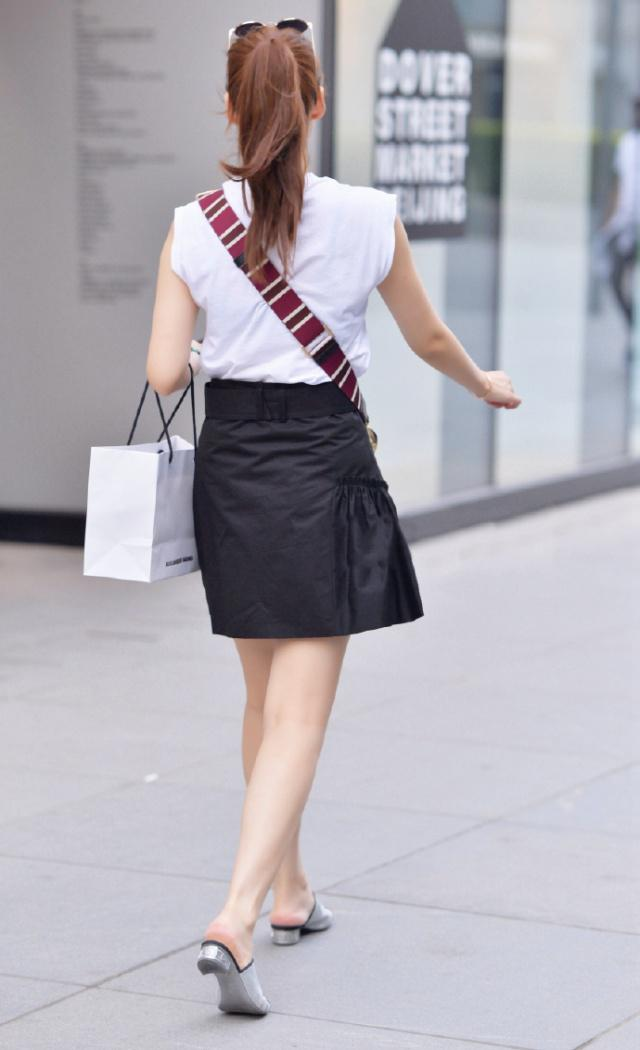person: (130, 14, 440, 1005)
